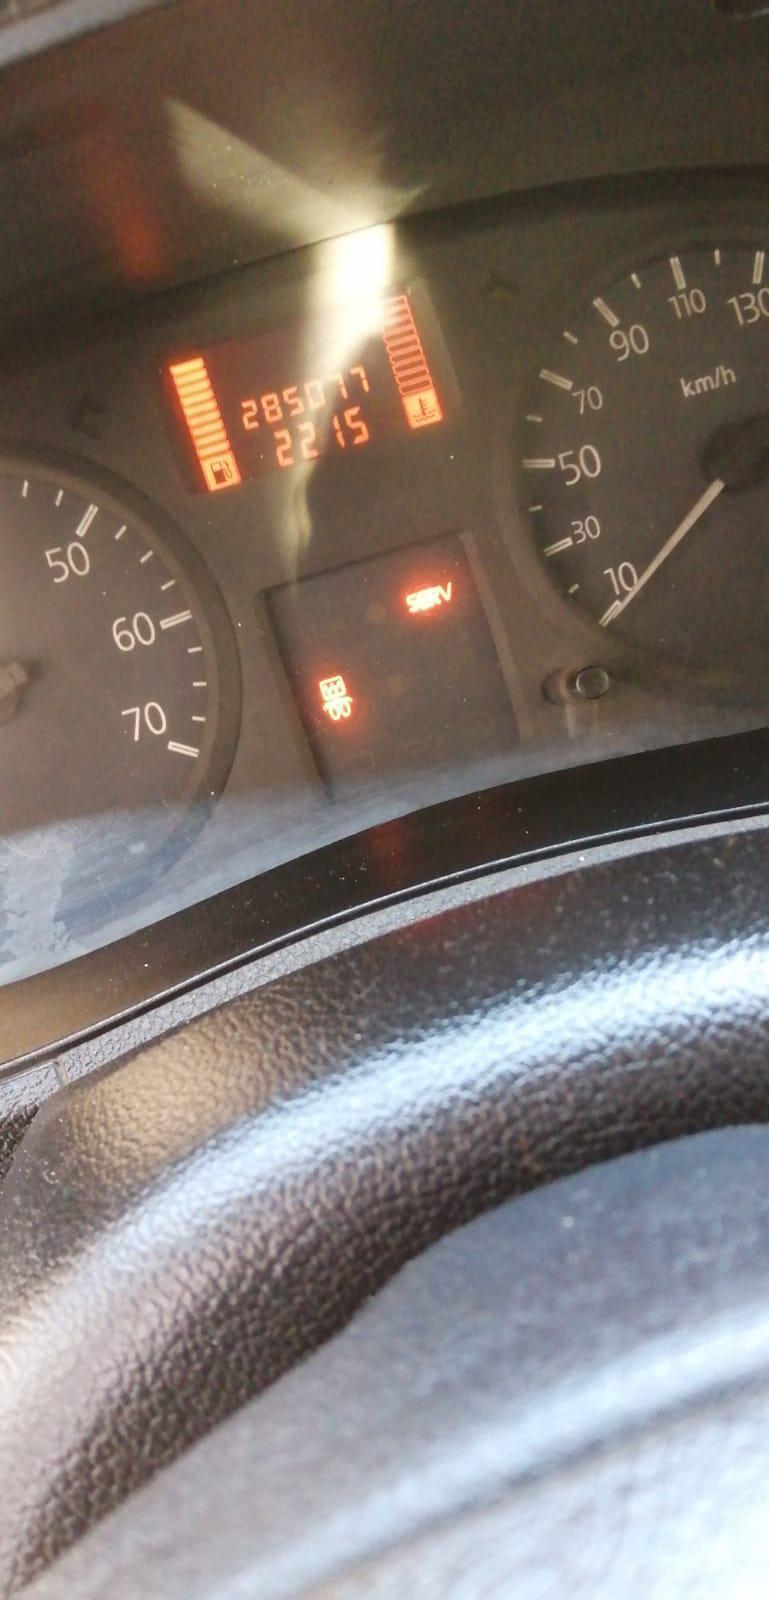0: (303, 380, 326, 410)
1: (332, 414, 345, 448)
2: (297, 421, 320, 460), (272, 428, 294, 467), (240, 399, 259, 431)
5: (343, 405, 369, 445), (281, 386, 303, 416)
7: (349, 365, 370, 393), (327, 371, 347, 400)
8: (259, 392, 281, 423)
odometer: (151, 285, 448, 497)
